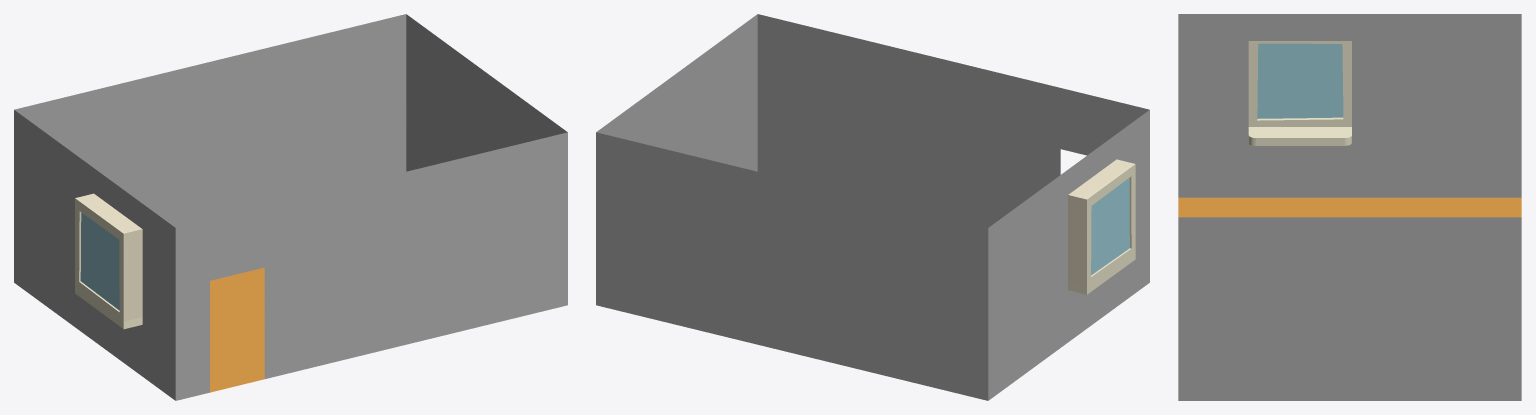
The model's file is Room1.glb.
The picture shows the model from 3 angles, left to right: view 1: azimuth 30°, elevation 25°; view 2: azimuth 150°, elevation 25°; view 3: azimuth 270°, elevation 25°; orthographic projection. The views are drawn at different scales.
Parts seen in each view (by area): view 1: Room.001; view 2: Room.001; view 3: Room.001.
Part boxes in pixels (left/top/right/bottom): Room.001: left=14, top=14, right=567, bottom=400; Room.001: left=596, top=14, right=1149, bottom=400; Room.001: left=1178, top=14, right=1521, bottom=400.
Size of the model in its own units: 7.46 by 3 by 5.08.
Materials: 4 (2 with a texture image).
